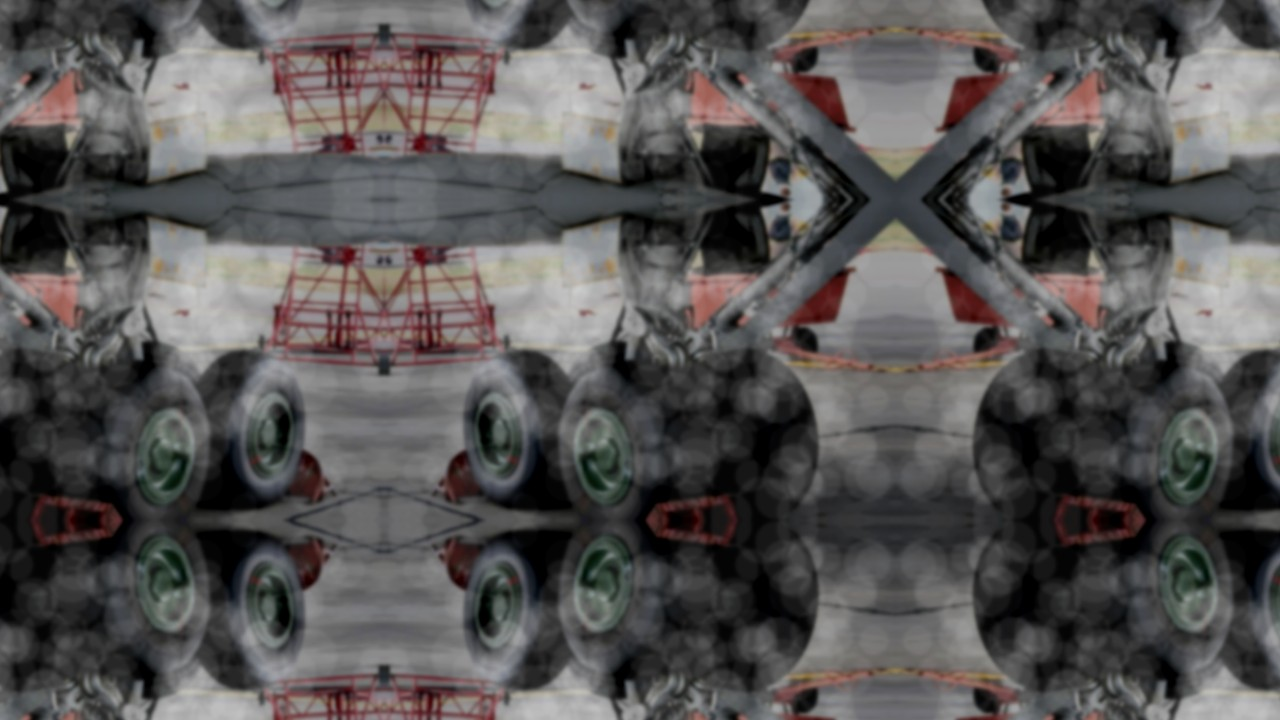chock: (16, 520, 143, 551), (625, 520, 752, 551), (1040, 520, 1167, 551), (16, 490, 143, 520), (625, 490, 752, 520), (1040, 490, 1167, 520), (284, 449, 341, 506), (427, 449, 484, 506), (284, 535, 341, 592), (427, 535, 484, 592)
wheel: (53, 354, 220, 521), (548, 354, 715, 521), (1077, 354, 1244, 521), (53, 521, 220, 687), (548, 521, 715, 687), (1077, 521, 1244, 687), (679, 345, 827, 521), (965, 345, 1113, 521), (679, 521, 827, 696), (965, 521, 1113, 696), (195, 346, 312, 512), (456, 346, 573, 512), (195, 529, 312, 695), (456, 529, 573, 695), (0, 345, 89, 521), (0, 521, 89, 696), (1219, 346, 1280, 512), (1219, 529, 1280, 695), (679, 0, 827, 54), (965, 0, 1113, 54), (53, 0, 220, 45), (548, 0, 715, 45), (1077, 0, 1244, 45), (195, 0, 312, 53), (456, 0, 573, 53), (0, 0, 89, 54), (1219, 0, 1280, 53), (136, 18, 203, 58), (565, 18, 632, 58), (1160, 18, 1227, 58), (136, 341, 203, 381), (565, 341, 632, 381), (1160, 341, 1227, 381), (136, 660, 203, 700), (565, 660, 632, 700), (1160, 660, 1227, 700)
